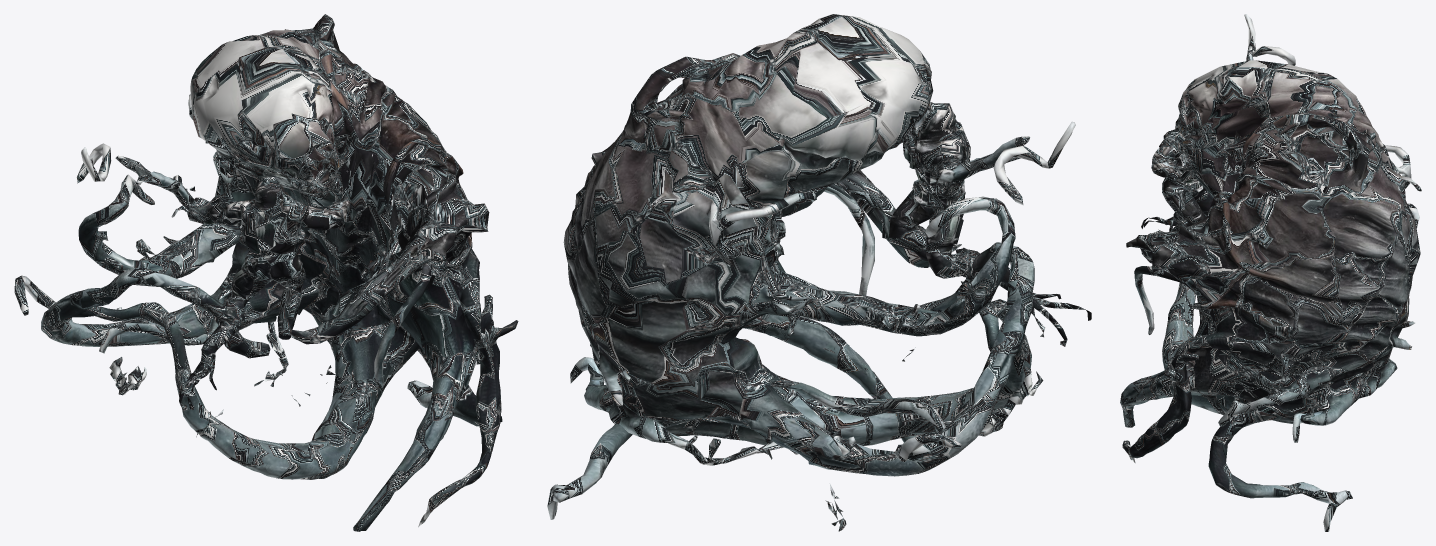
File: roper.glb
3 renders of one model, left to right at view 1: azimuth 30°, elevation 25°; view 2: azimuth 150°, elevation 25°; view 3: azimuth 270°, elevation 25°, orthographic. The views are drawn at different scales.
Size of the model in its own units: 1.82 by 1.89 by 1.36.
1 material, 1 textured.
